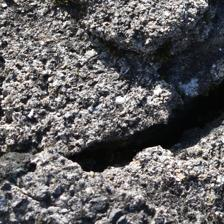Crack: (74, 79, 222, 177)
